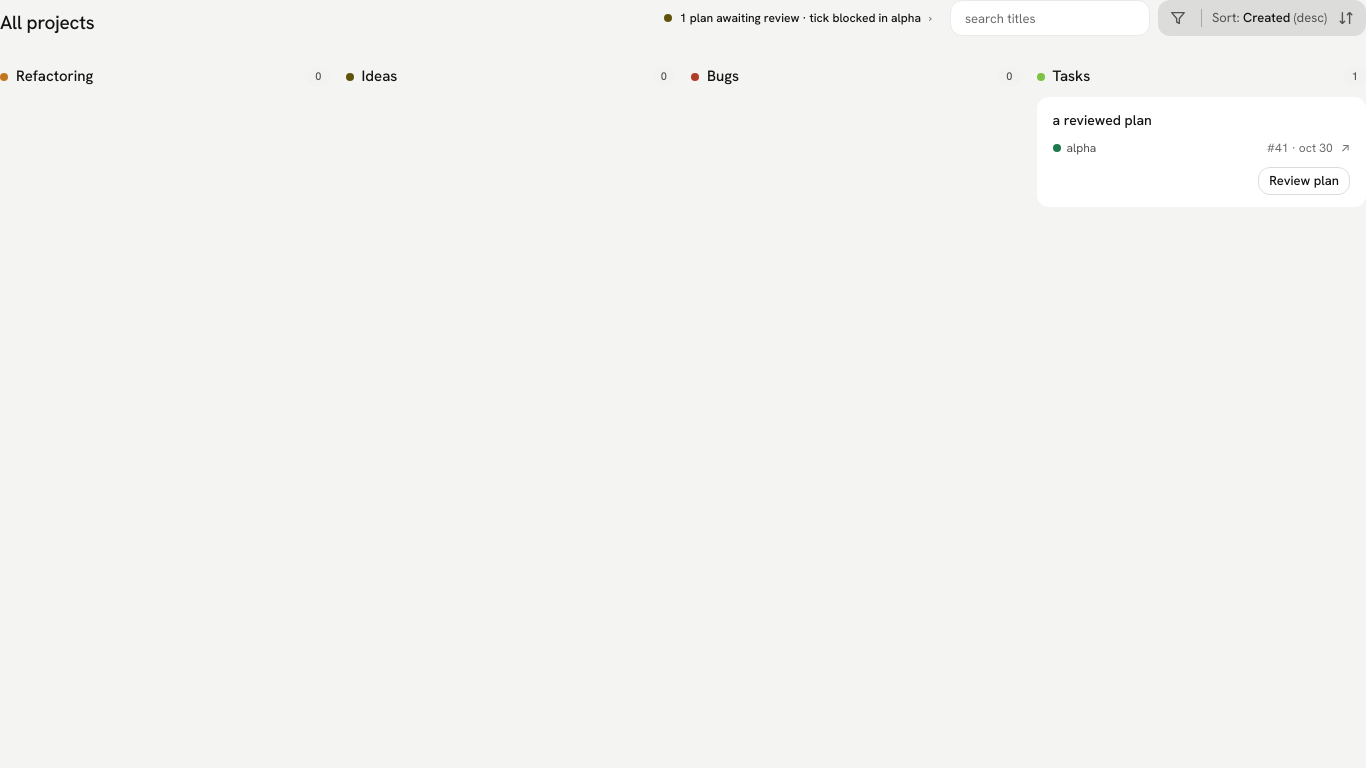
Test: BoardView and plan review › opens the item from the card’s Review plan, and after Approve the modal draws the fresh item
Click the button with test id "review-plan": point(1304, 181) [1258,167,1350,195]
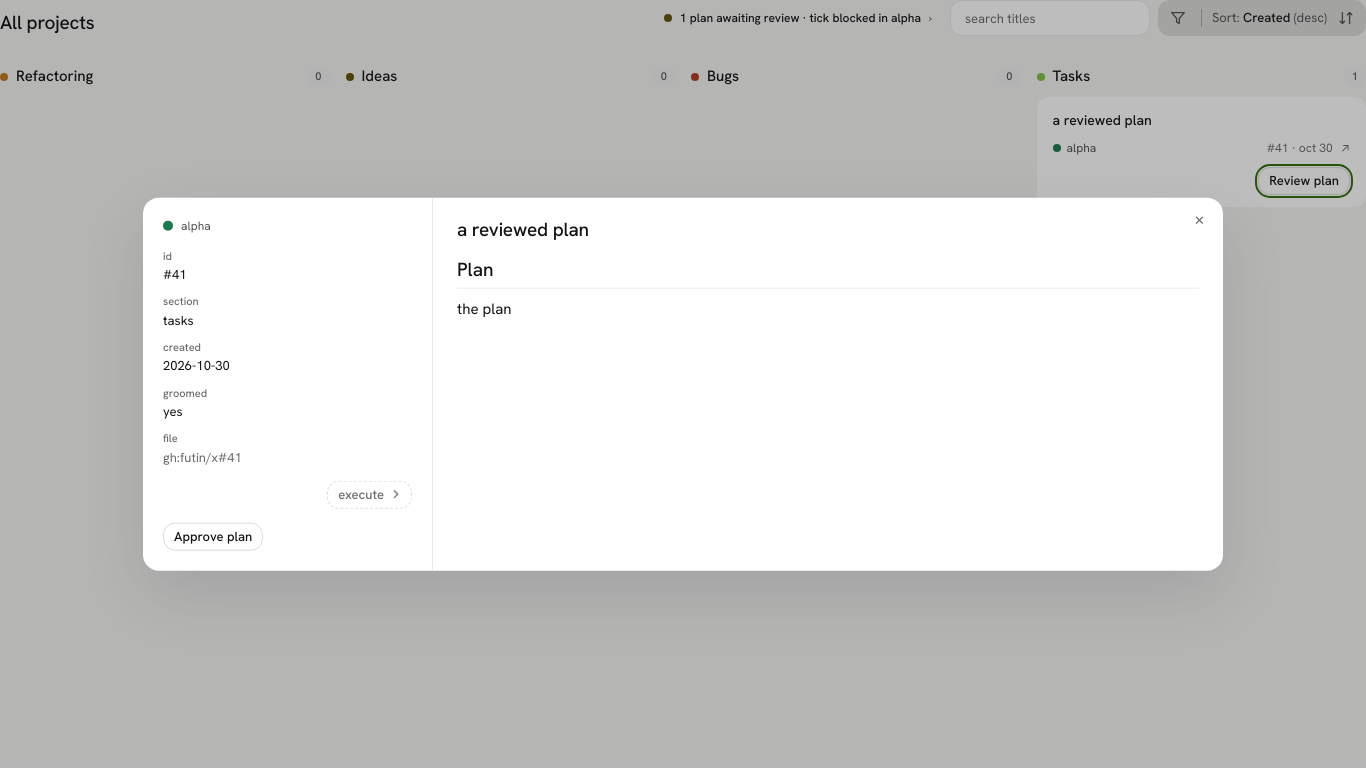
Click the button with test id "plan-approve": point(213, 536) [163,522,263,550]
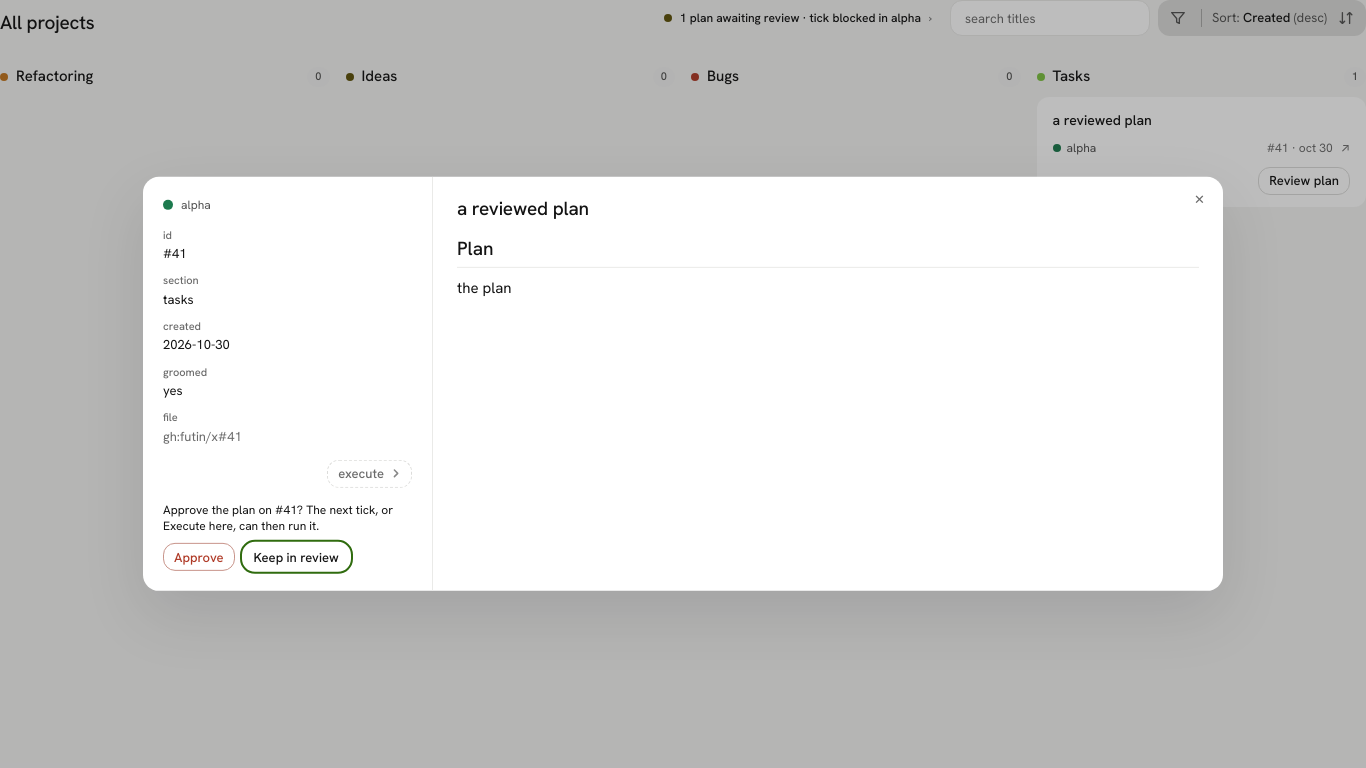
Click the button with test id "plan-approve-confirm-accept": point(199, 557) [163,543,235,571]
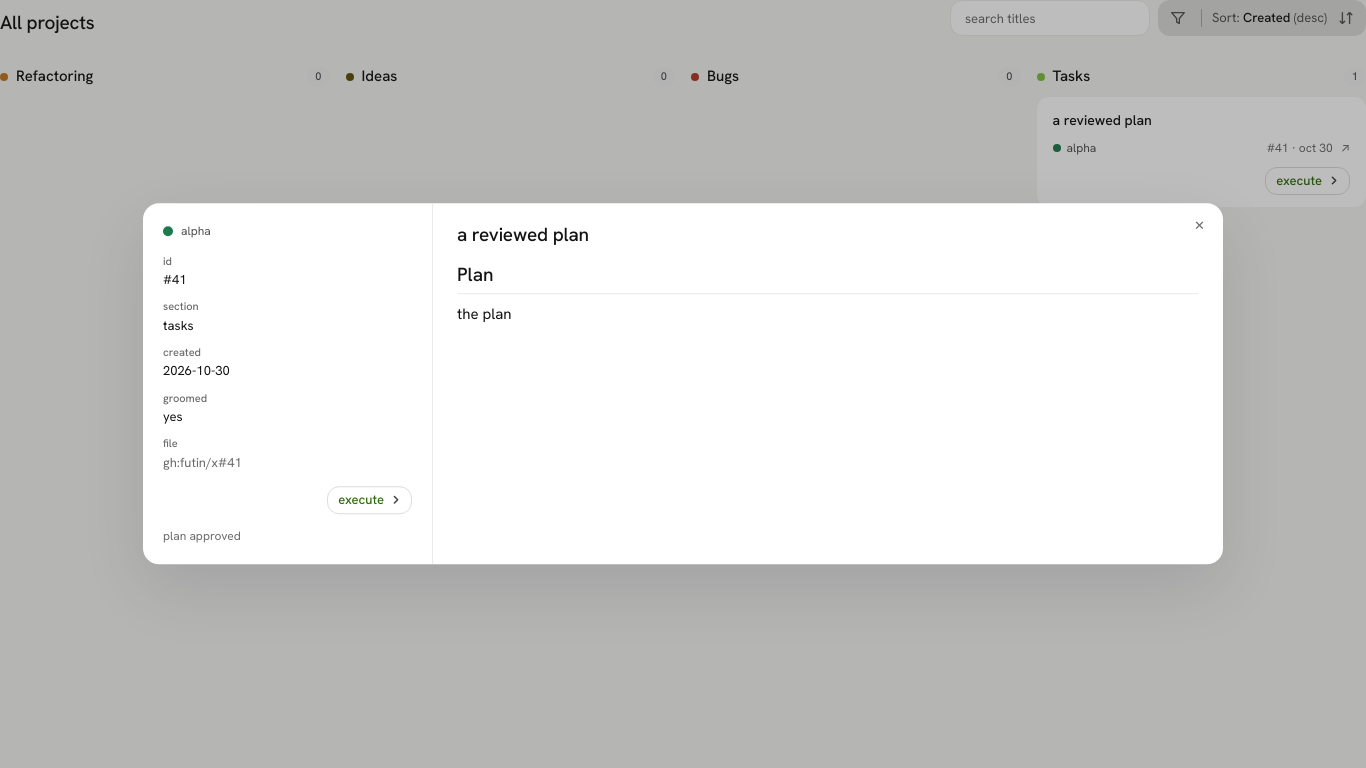
Expected: the text "plan approved" is shown, [163,528,241,544]
Expected: the button with test id "plan-review-chip" is gone
Expected: the button with test id "review-plan" is gone
